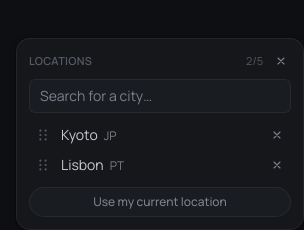
WeatherLocationsPopover › geolocation unsupported by the browser shows its own note
The image size is (304, 230).
(page scrolled)
Click the button "Use my current location". click: coordinates (160, 202)
box: [29,187,291,217]
(page scrolled)
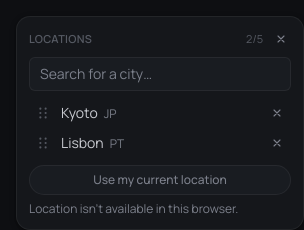
Now the text "Location isn't available in this browser." is shown, box [29,200,238,217]
